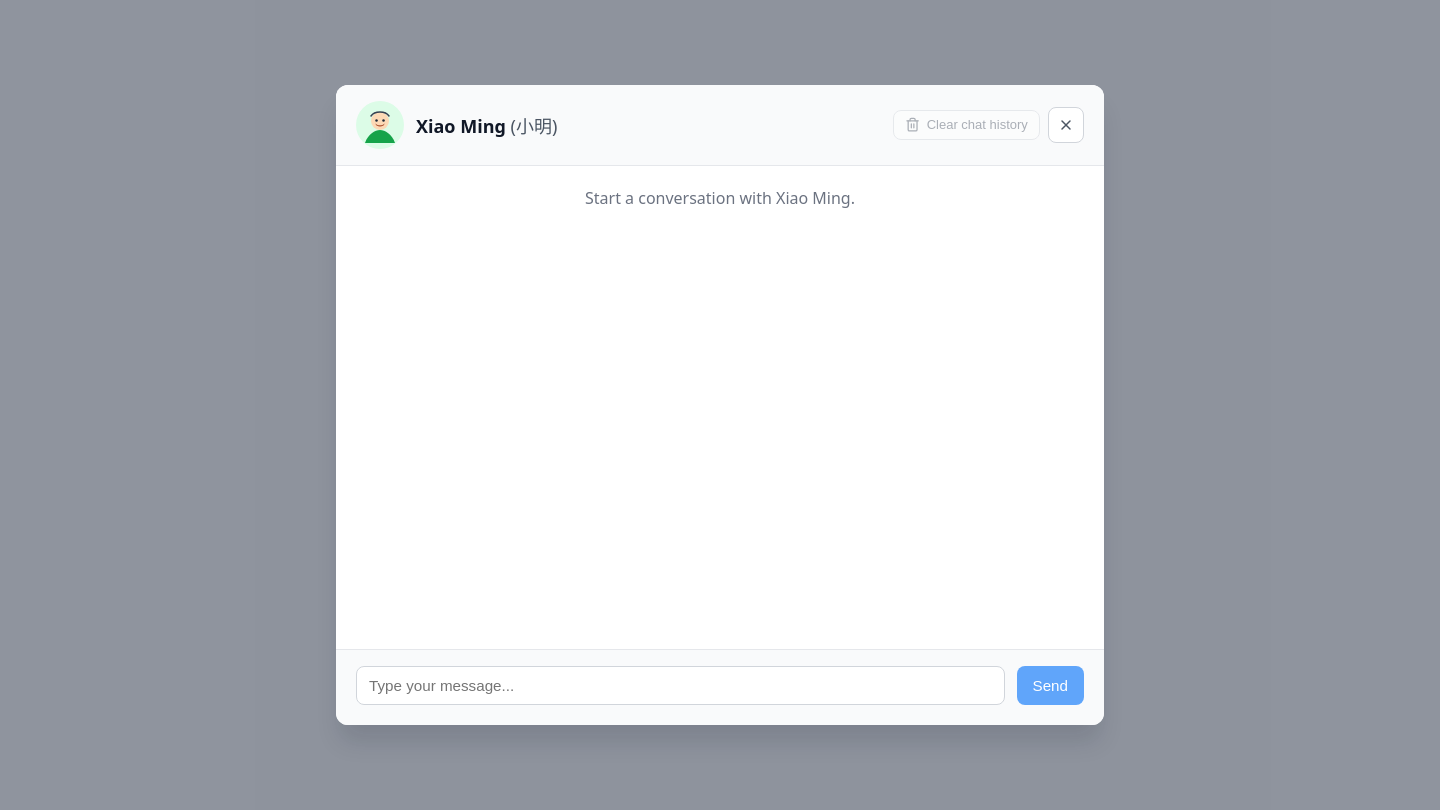
it: ChatModal › opens a Teacher Wang correction chat from the grammar warning
The width and height of the screenshot is (1440, 810).
In the field labelled "message": (680, 686) x1=356 y1=666 x2=1004 y2=705, type "我是很好"
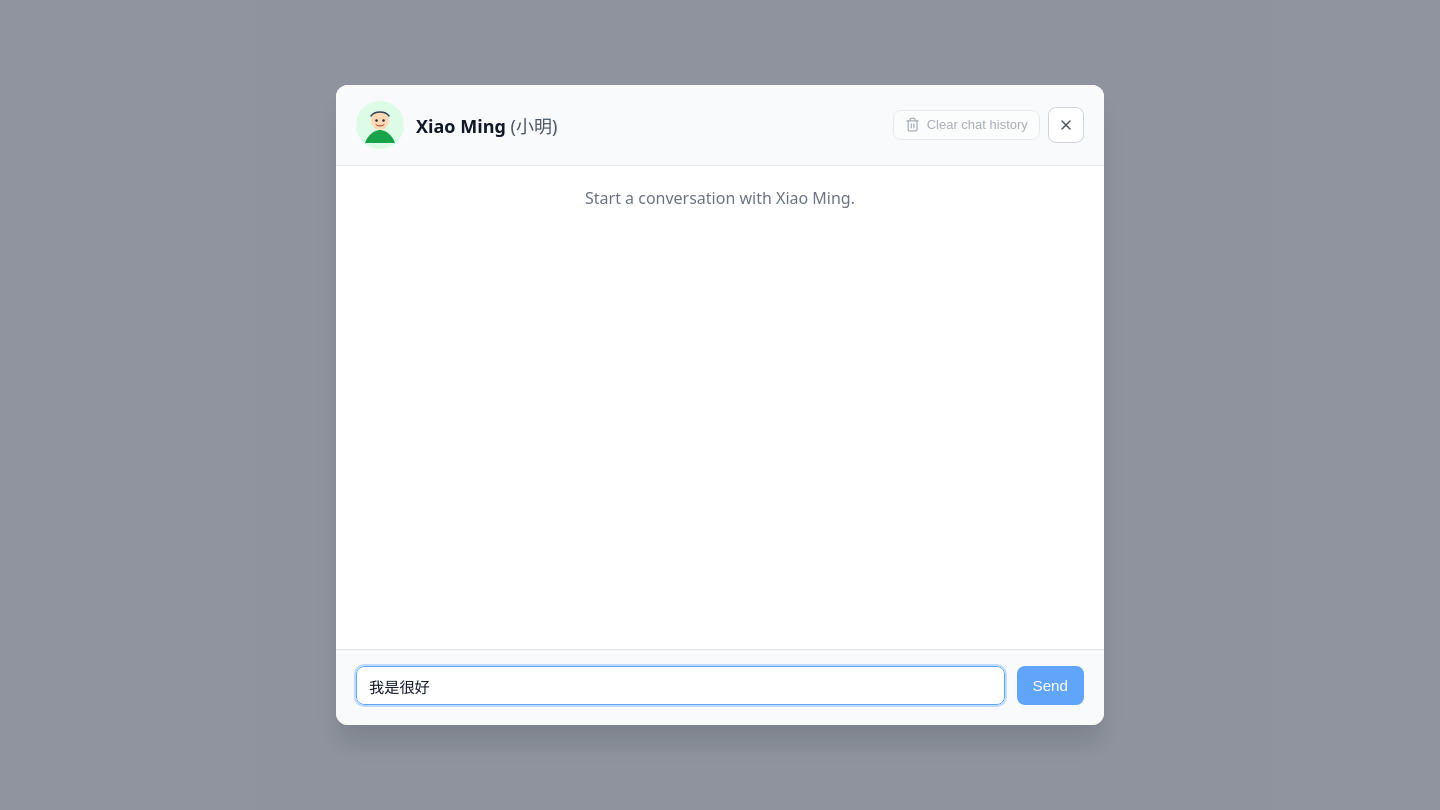
Click the button "Send": (1050, 686) x1=1016 y1=666 x2=1084 y2=705
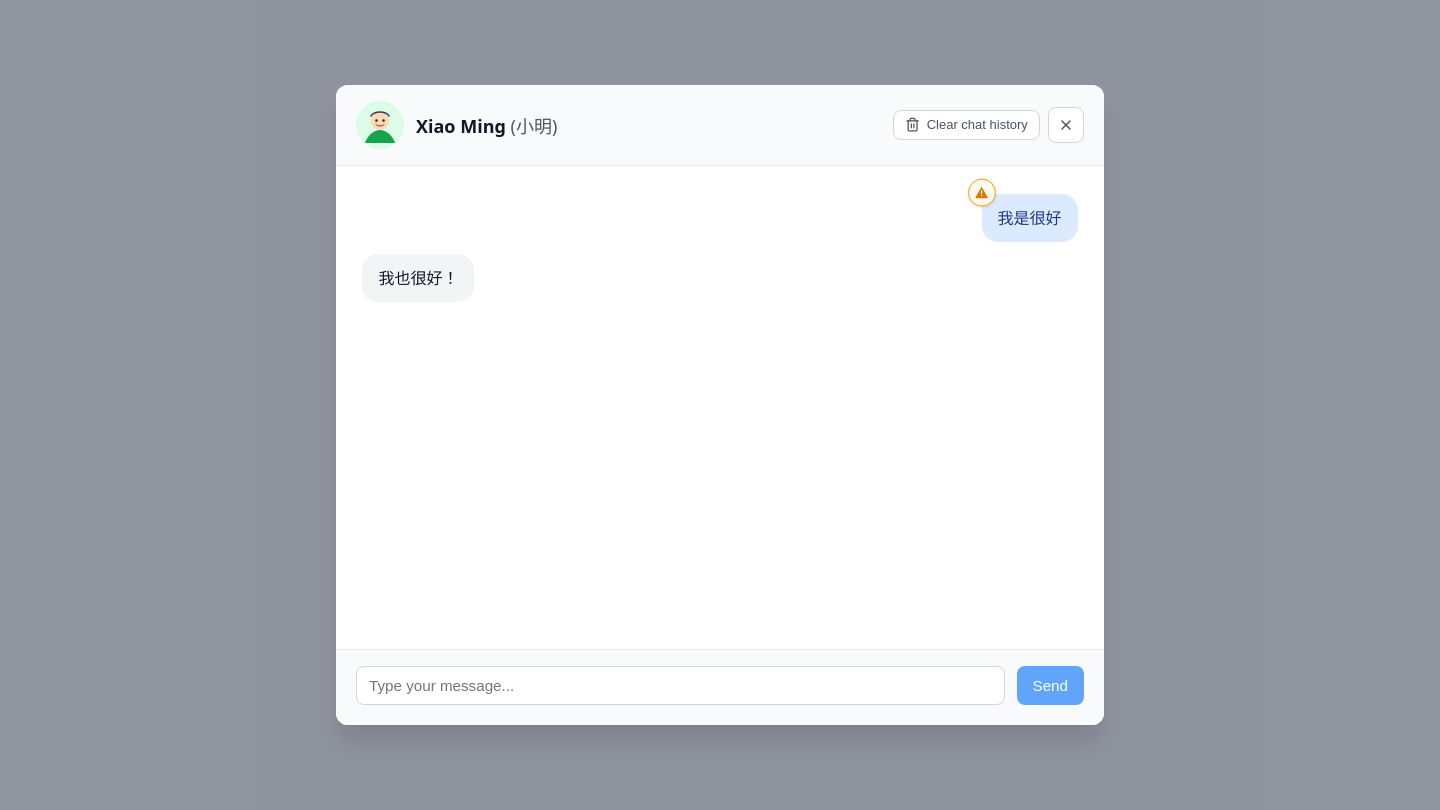
Now the text "我是很好" is shown, box x1=982 y1=194 x2=1078 y2=242
Now the text "我也很好！" is shown, box x1=362 y1=254 x2=474 y2=302
Click the button named "Open grammar correction with Teacher Wang": (982, 193) x1=968 y1=179 x2=996 y2=207
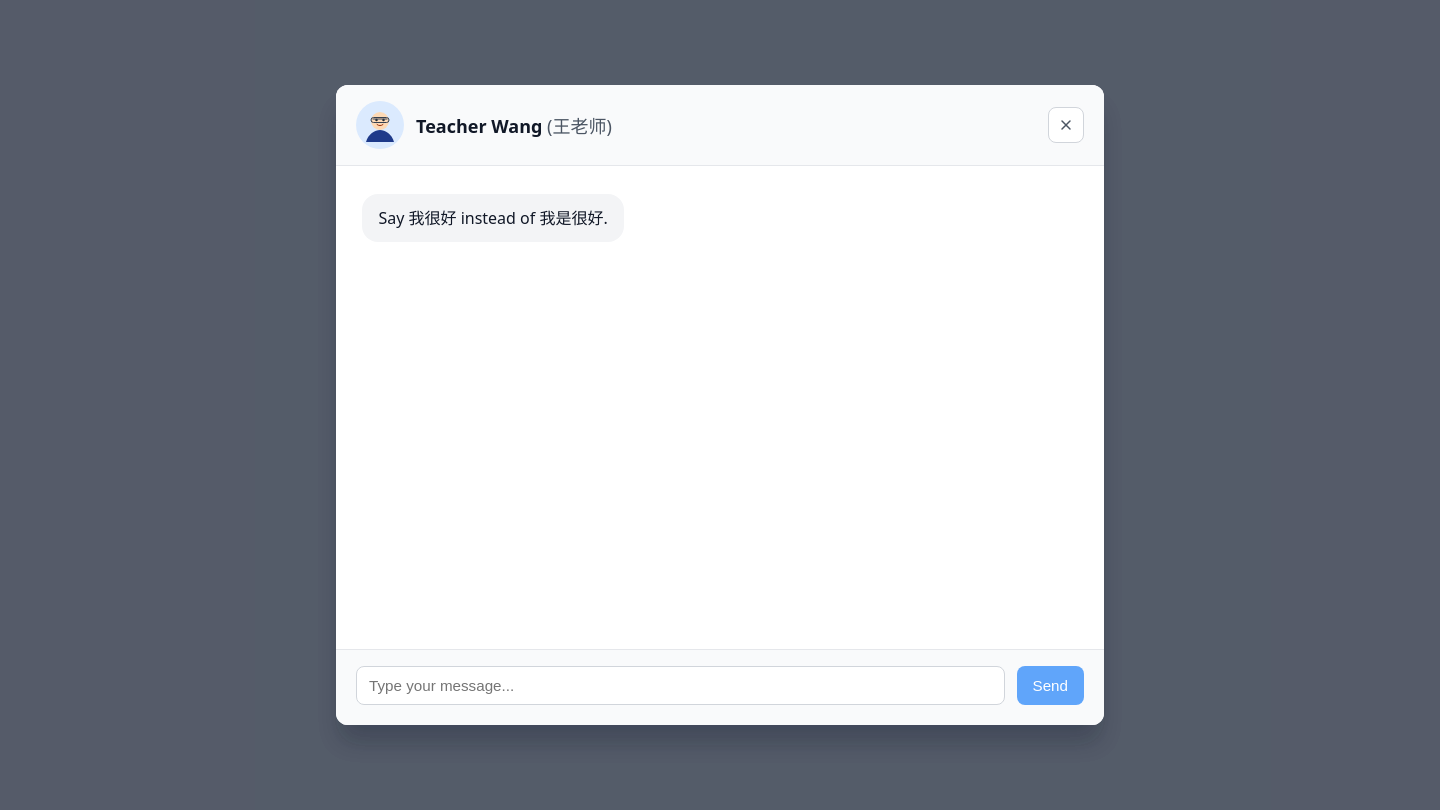
Now the heading "Teacher Wang (王老师)" is shown, box x1=416 y1=112 x2=612 y2=138
Now the text "Say 我很好 instead of 我是很好." is shown, box x1=362 y1=194 x2=624 y2=242
